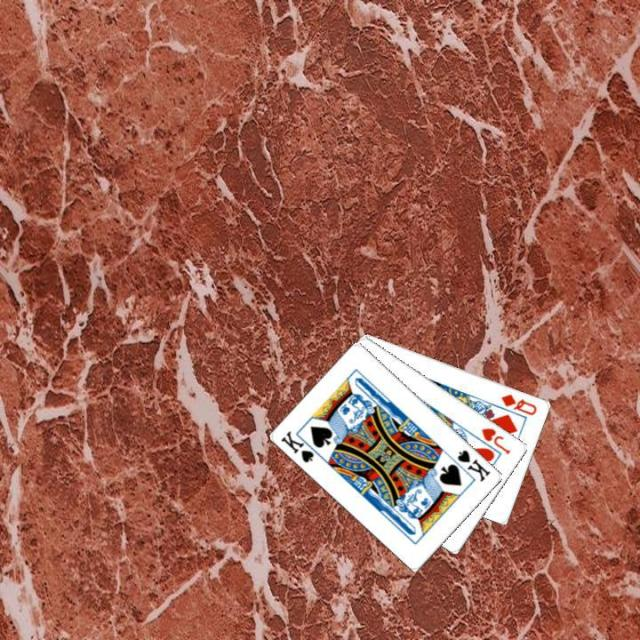JH: (478, 424, 513, 456)
KS: (278, 427, 324, 465), (453, 446, 492, 484)
QD: (498, 389, 538, 417)
